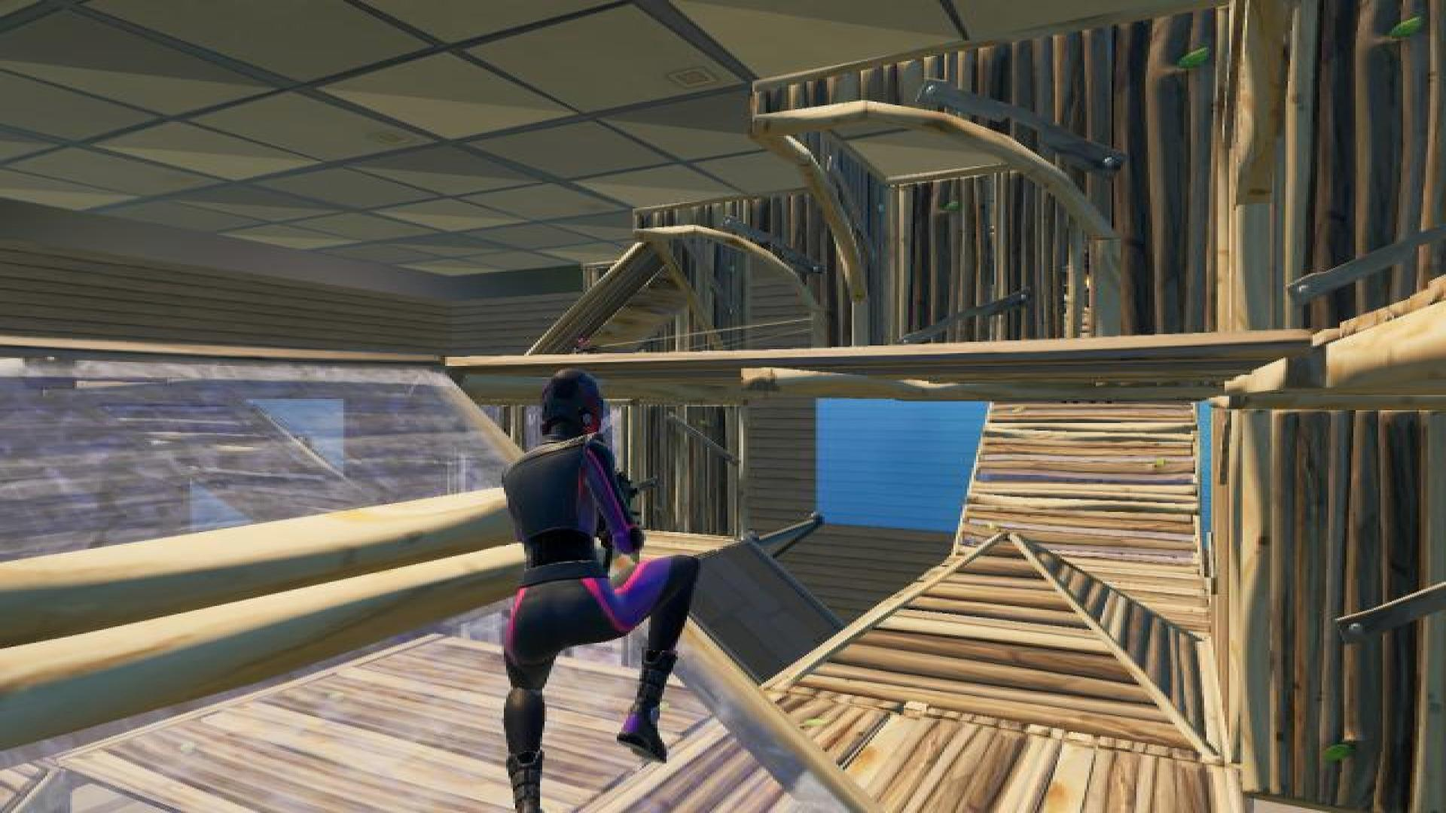player: (559, 332, 604, 353)
